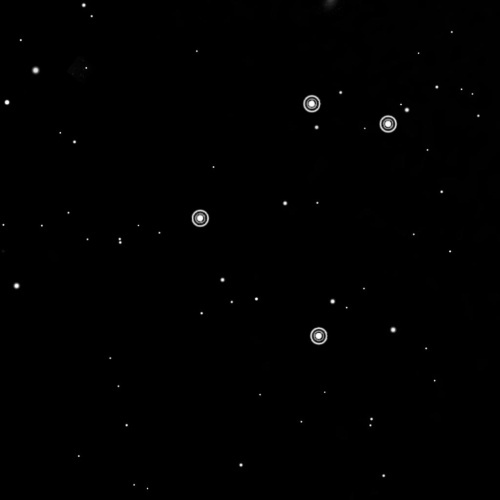coma_berenices: (185, 90, 409, 352)
